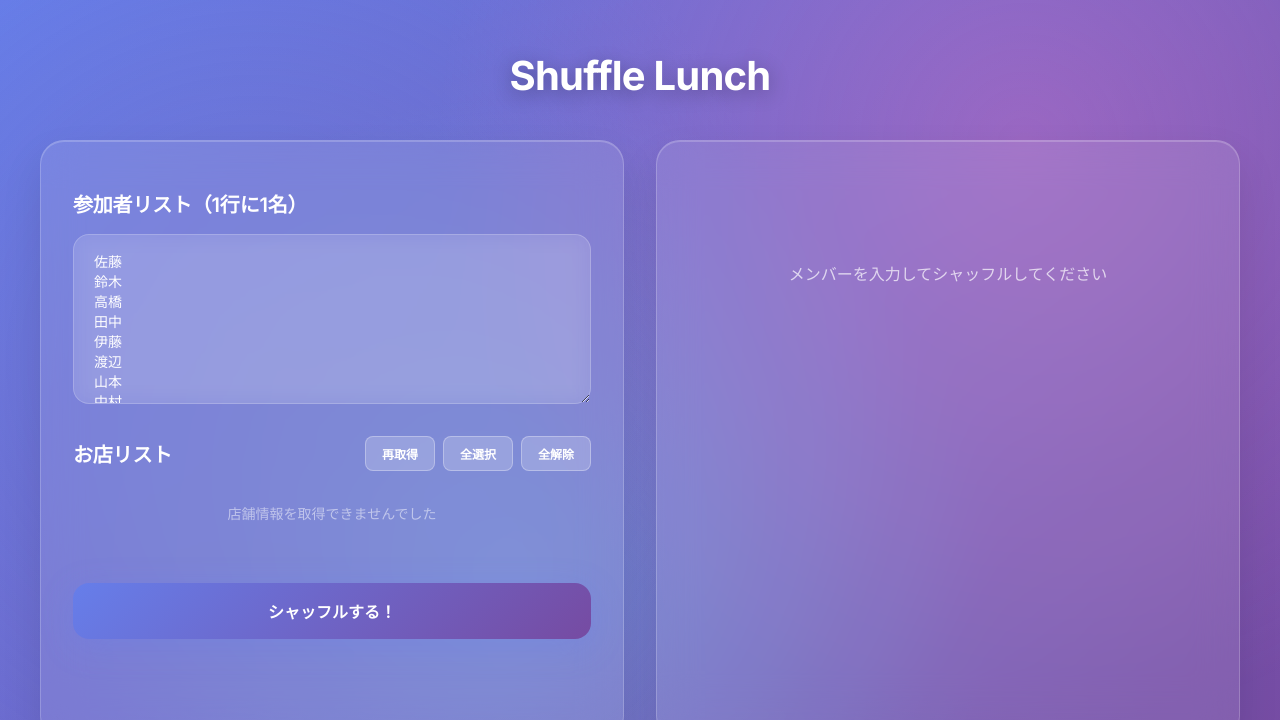
+page.svelte › バリデーション › 参加者が空でエラーメッセージが表示される
Note: 参加者を空にする
Clear the text box with placeholder "名前を入力..." at (332, 319), box top-left (73, 234), bottom-right (591, 404)
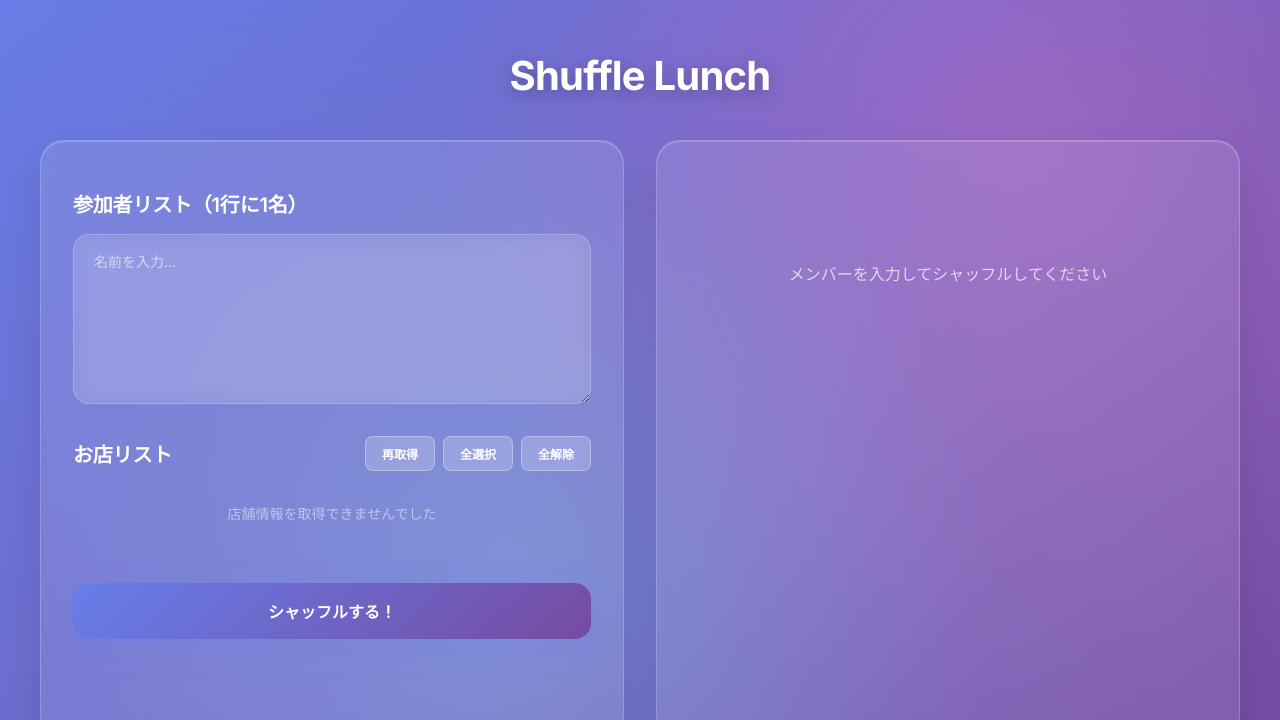
Click the button "シャッフルする！" at (332, 611), box top-left (73, 583), bottom-right (591, 639)
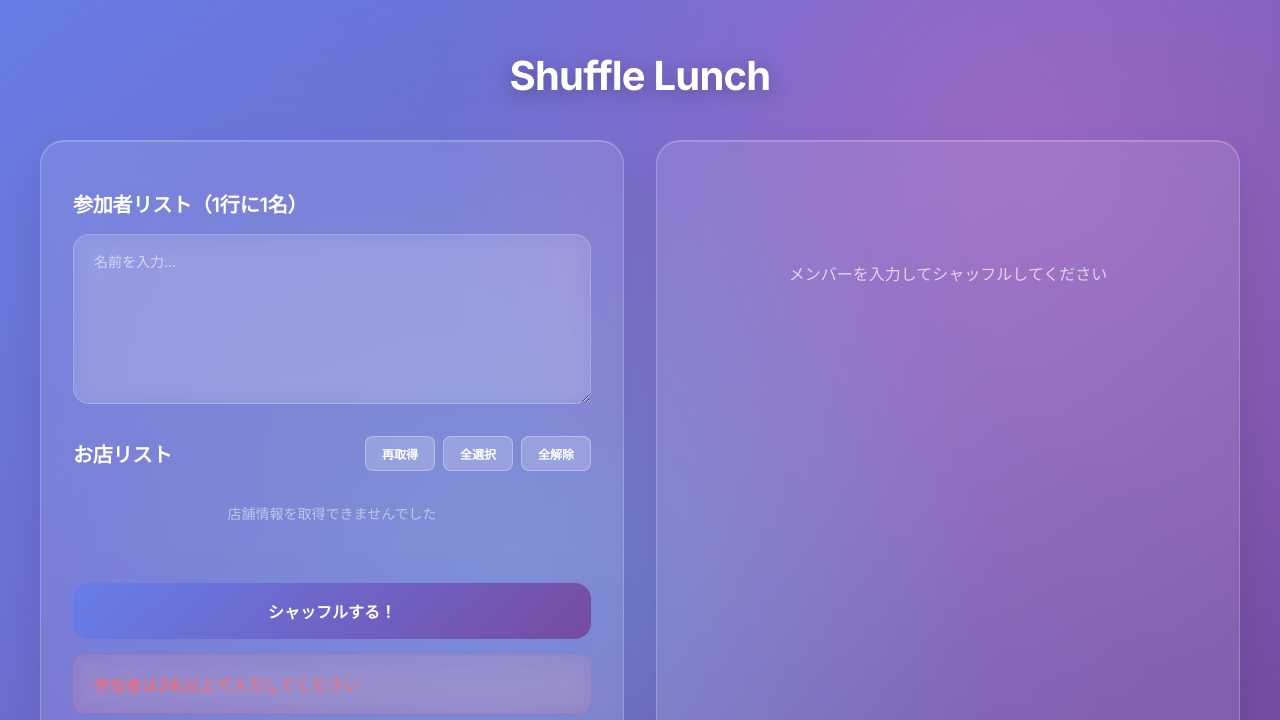
Result: the text "参加者は3名以上で入力してください" is shown at top-left (73, 655), bottom-right (591, 713)
